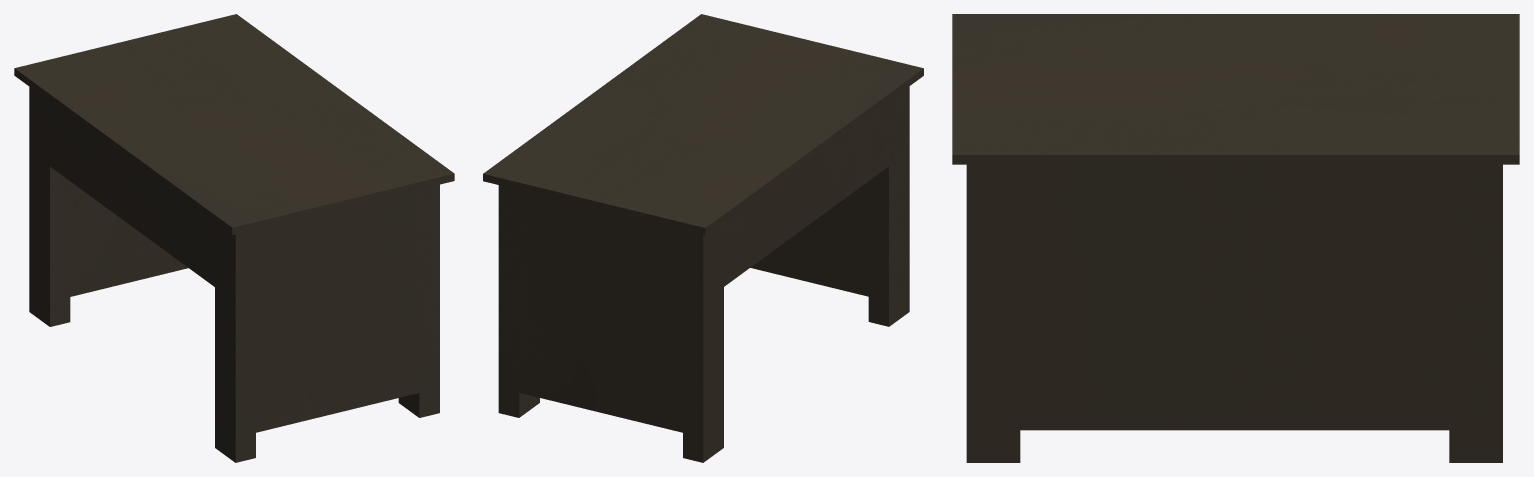
File: Elements_Table-NoDrawer.fbx
The picture shows the model from 3 angles, left to right: view 1: azimuth 30°, elevation 25°; view 2: azimuth 150°, elevation 25°; view 3: azimuth 270°, elevation 25°; orthographic projection. The views are drawn at different scales.
Visible parts, largest first — view 1: Table_NoDrawer; view 2: Table_NoDrawer; view 3: Table_NoDrawer.
Boxes of the visible parts, box(x1,y1,x2,y2) form: Table_NoDrawer: box(14, 14, 454, 462); Table_NoDrawer: box(483, 14, 923, 462); Table_NoDrawer: box(952, 14, 1519, 462).
Bounding box in the file's own units: 1.68 × 1.74 × 2.85.
1 material, 1 textured.
